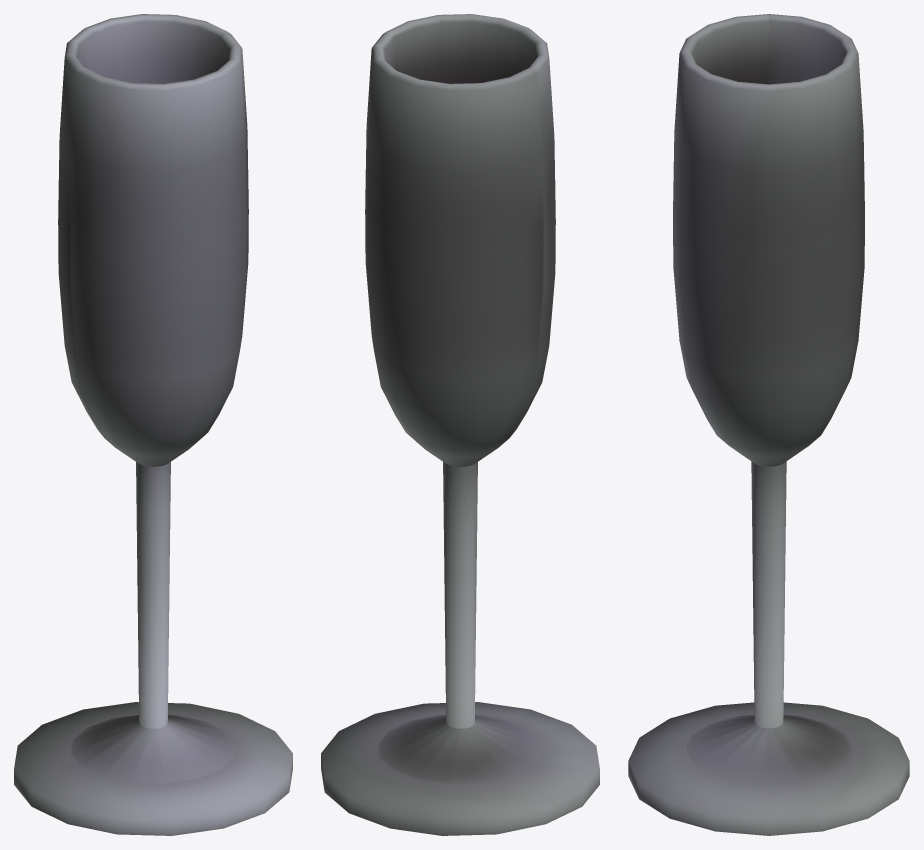
Rendered from champagne-Glasses.fbx.
The picture shows the model from 3 angles, left to right: view 1: azimuth 30°, elevation 25°; view 2: azimuth 150°, elevation 25°; view 3: azimuth 270°, elevation 25°; orthographic projection.
Parts seen in each view (by area): view 1: wine-glass; view 2: wine-glass; view 3: wine-glass.
Part boxes in pixels (<box>): wine-glass: <box>14,14,292,835</box>; wine-glass: <box>321,14,599,835</box>; wine-glass: <box>628,14,909,835</box>.
Bounding box in the file's own units: 0.4075 × 1.16 × 0.4075.
